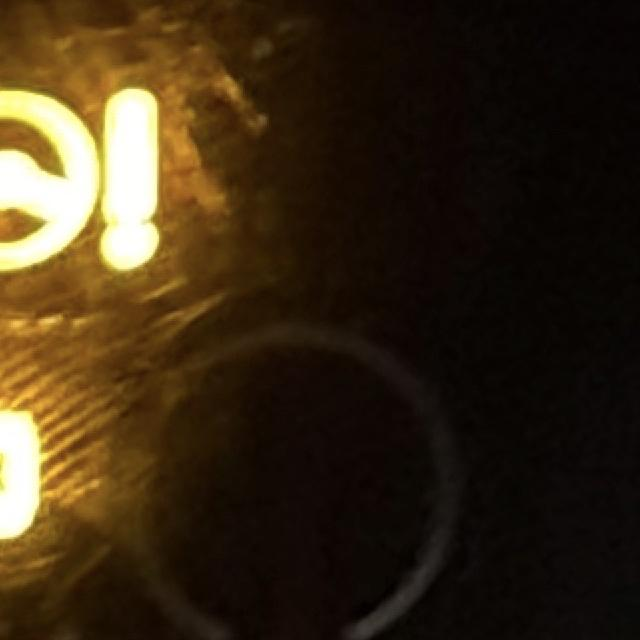Steering Wheel Locked: (1, 83, 166, 285)
